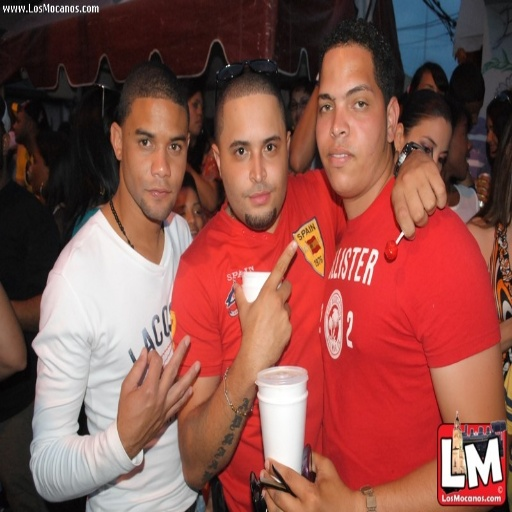hand: (115, 332, 201, 457), (232, 236, 299, 364), (396, 141, 457, 239), (259, 448, 353, 510), (474, 170, 494, 205), (456, 47, 466, 64)
